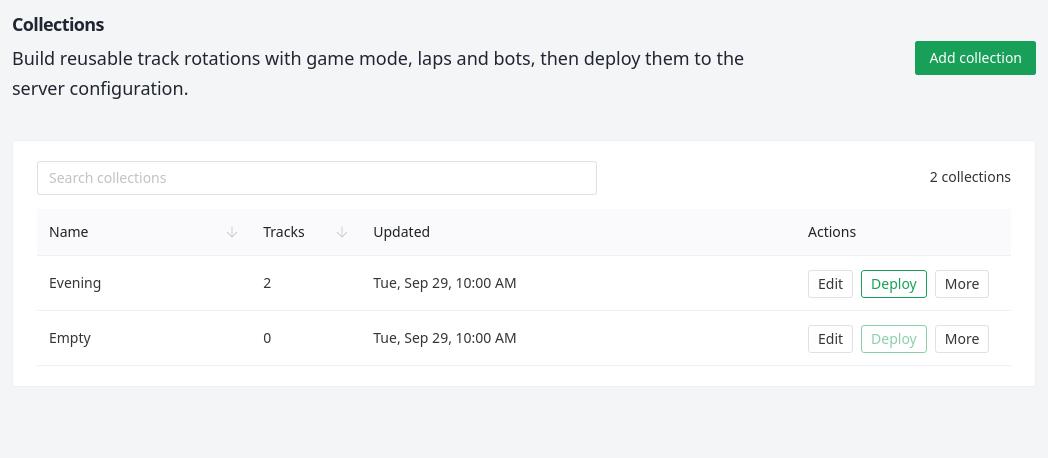
Test: CollectionsView › duplicates a collection
Click the button "More" in the row of "Evening" at (962, 284), box [935,270,989,298]
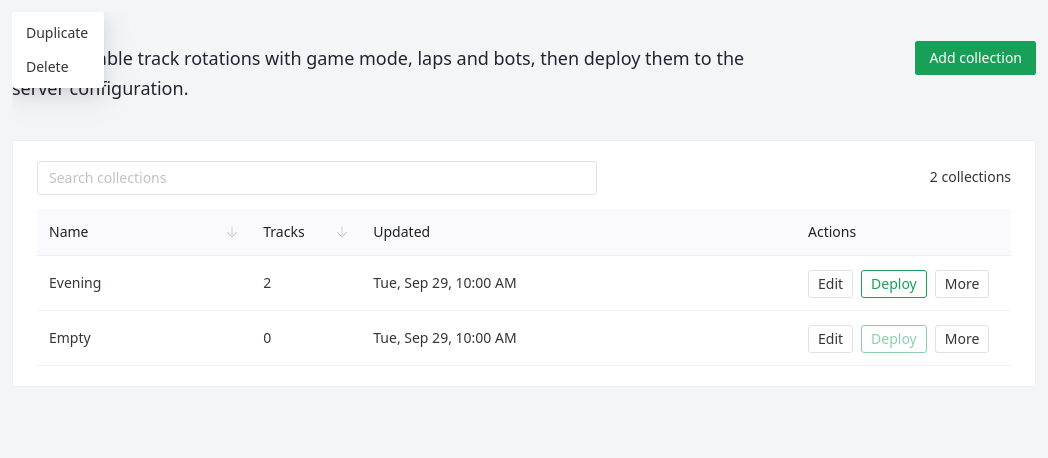
Click the element with class "n-dropdown-option-body" showing "Duplicate" at (57, 32), box [26,23,88,42]
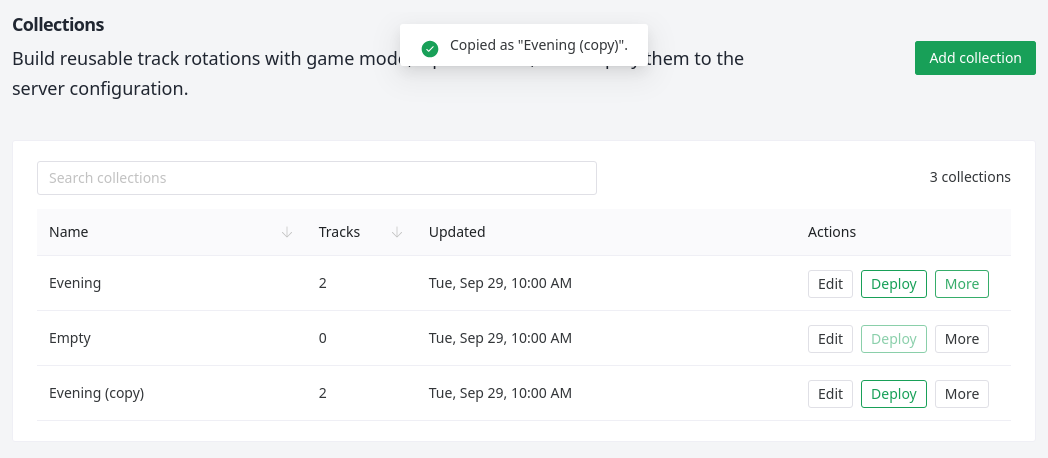
Now the text "Evening (copy)" is shown, box [37,366,307,421]
